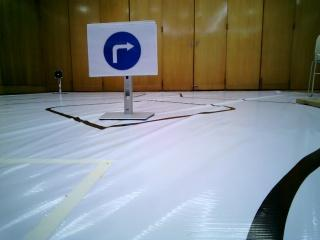right: (90, 24, 161, 75)
